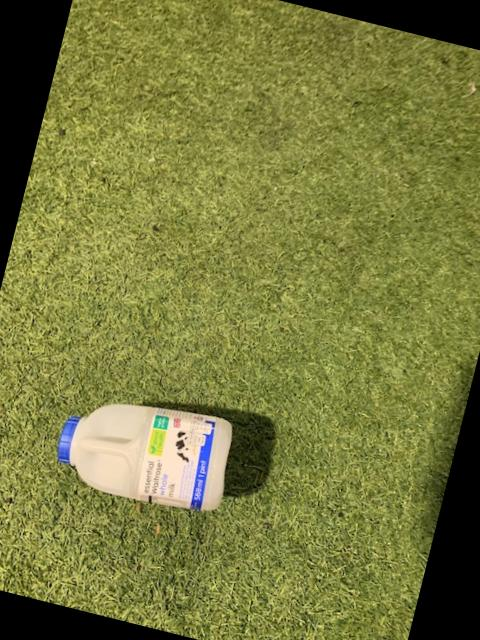plastic: (59, 407, 233, 511)
